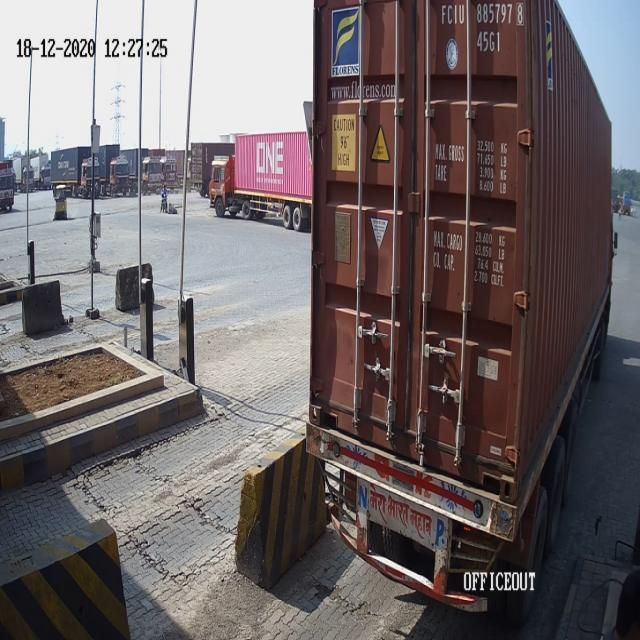container_number_h: (439, 3, 527, 54)
